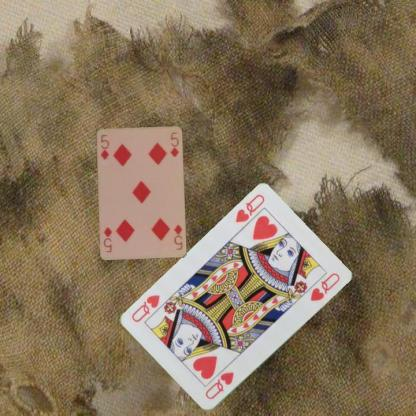5d: (171, 222, 183, 251), (98, 132, 110, 160)
Qh: (233, 192, 266, 224), (202, 370, 235, 401)
